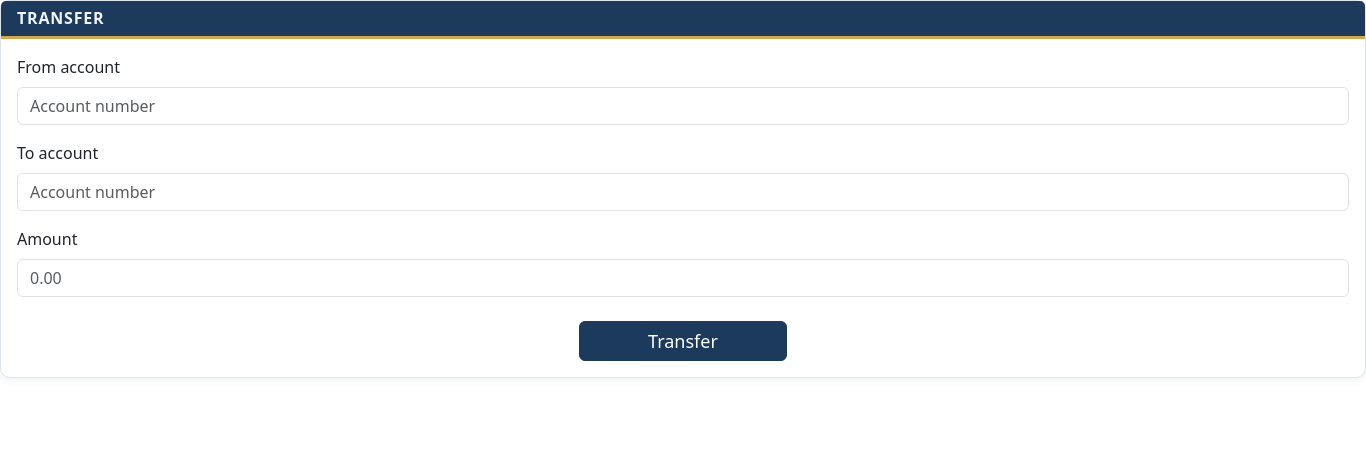
Test: Transfer › Transfer errors › shows error when account numbers are missing
Type "1234567890" into the field labelled "From account".
click(683, 106); type("1234567890")  # box [17,87,1349,125]
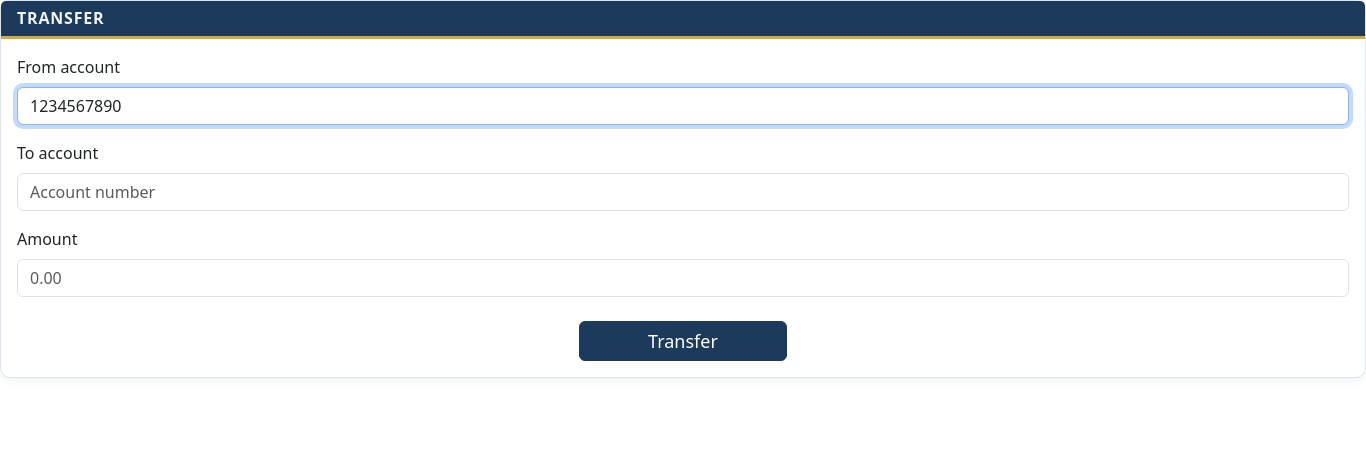
Type "100" into the number field labelled "Amount".
click(683, 278); type("100")  # box [17,259,1349,297]
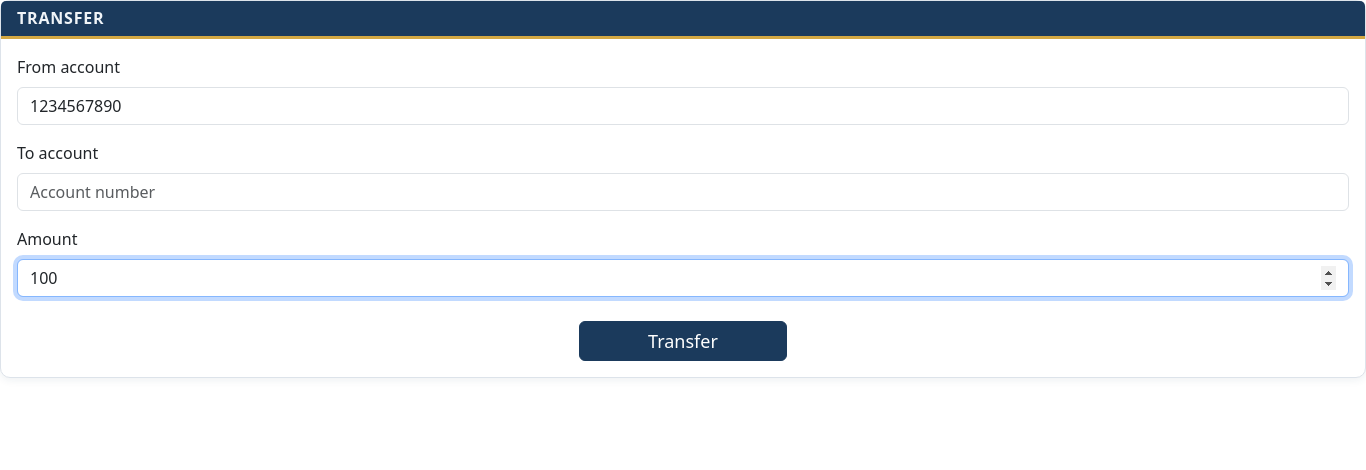
Click the button "Transfer".
click(683, 341)  # box [579,321,787,361]
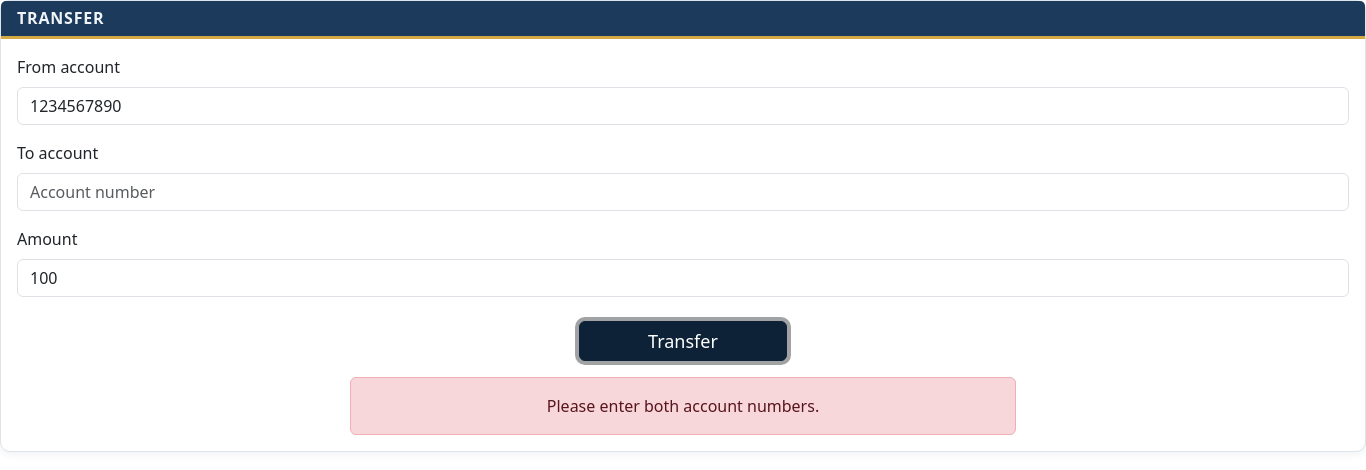
Result: the message reads "Please enter both account numbers." at [547,395,819,417]
